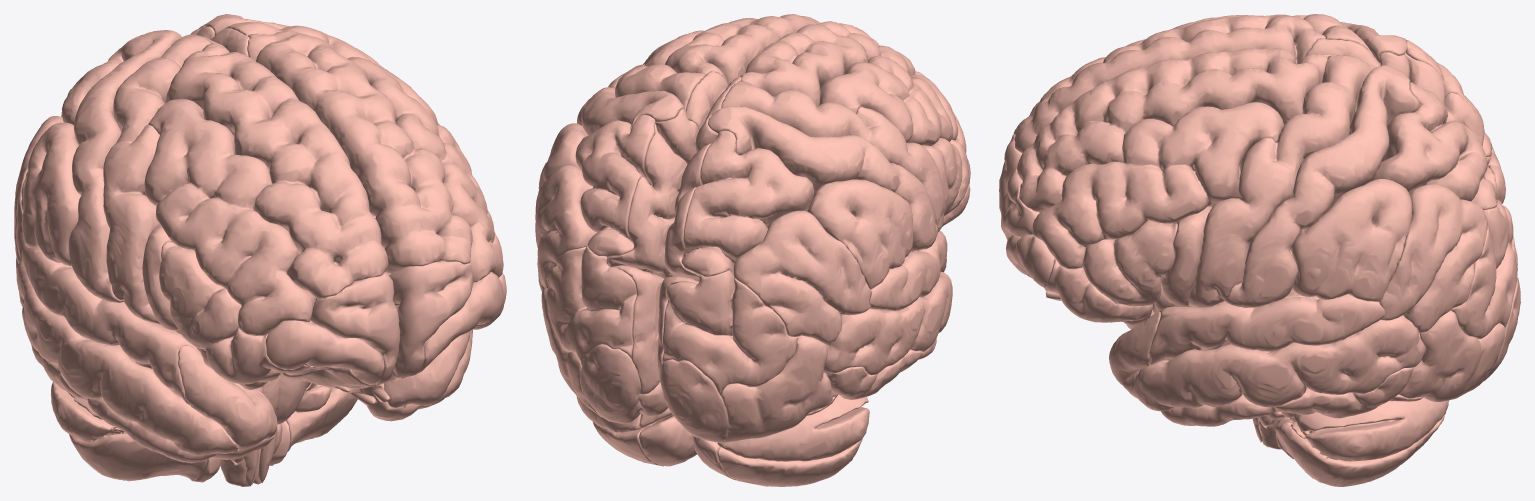
The model's file is brain.glb.
3 views of the same model, side by side, from view 1: azimuth 30°, elevation 25°; view 2: azimuth 150°, elevation 25°; view 3: azimuth 270°, elevation 25° (orthographic). The views are drawn at different scales.
Parts seen in each view (by area): view 1: Allen_olfactory_bulb_L; view 2: Allen_olfactory_bulb_L; view 3: Allen_olfactory_bulb_L.
Boxes of the visible parts, left/top/right/bottom form: Allen_olfactory_bulb_L: left=14, top=14, right=506, bottom=486; Allen_olfactory_bulb_L: left=535, top=14, right=970, bottom=486; Allen_olfactory_bulb_L: left=999, top=14, right=1520, bottom=486.
Bounding box in the file's own units: 0.1364 × 0.1461 × 0.167.
